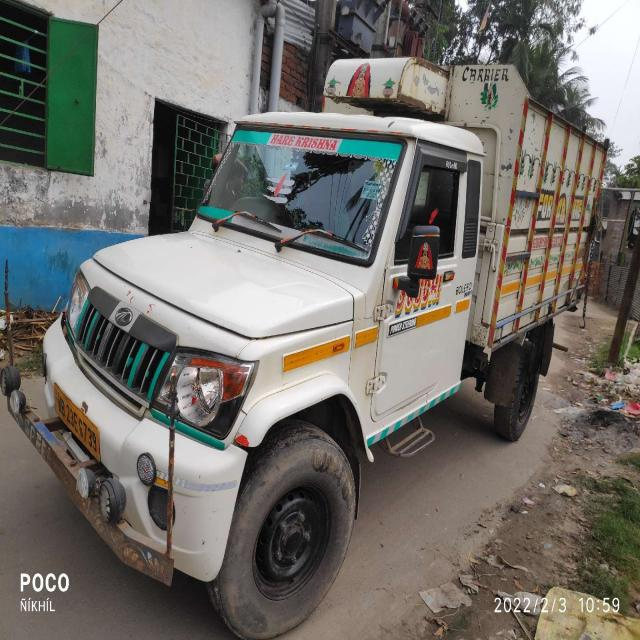light_vehicle: (39, 119, 473, 554)
